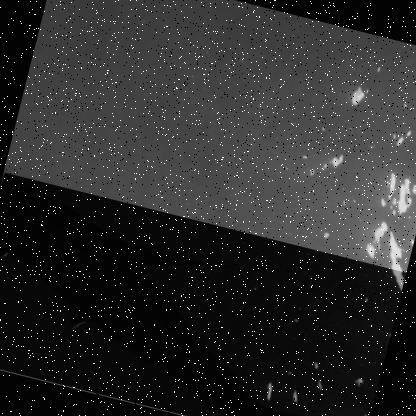mako-shark: (0, 172, 406, 415)
